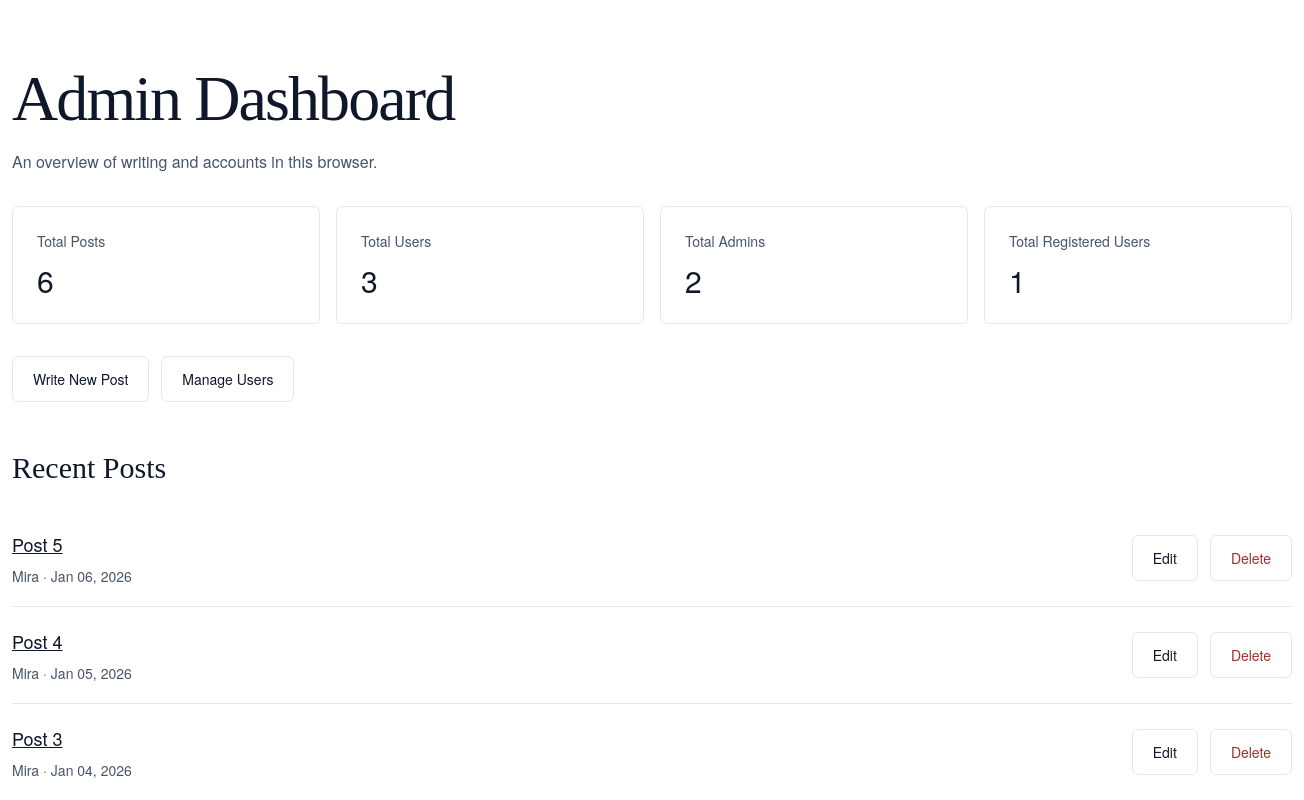
Test: fresh nonadmin blocks dashboard deletion
Click the button with aria-label "Delete Post 5".
click(1251, 558)  # box [1210,535,1292,581]
(page scrolled)
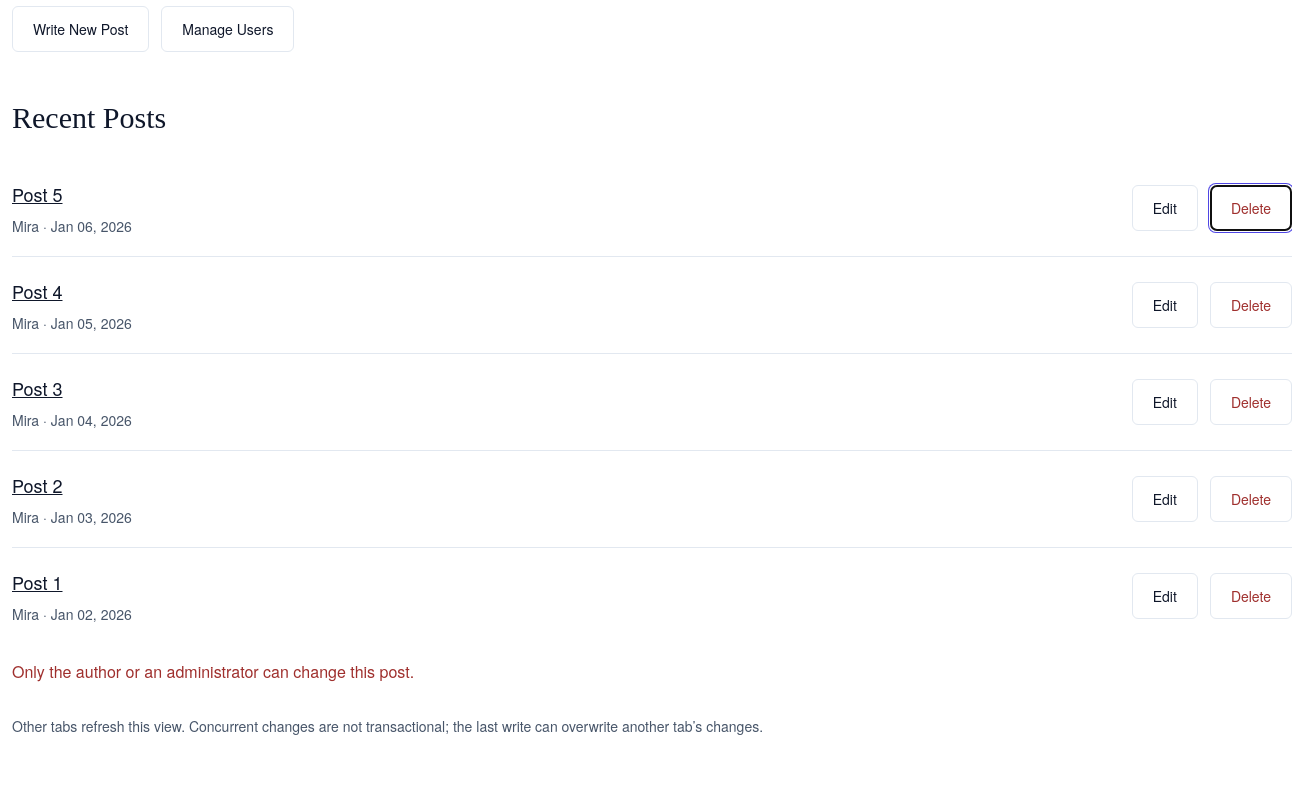
Check: the message "Only the author or an administrator can change this post." is shown, box [12,660,414,683]
